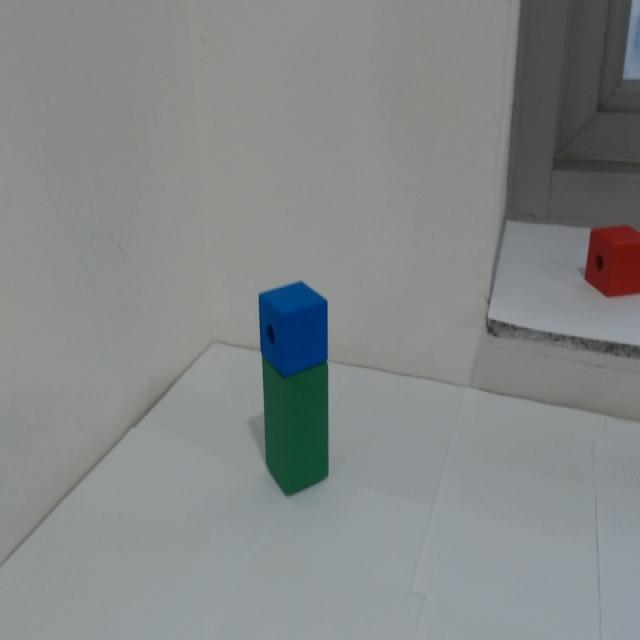cube: (250, 273, 351, 368)
